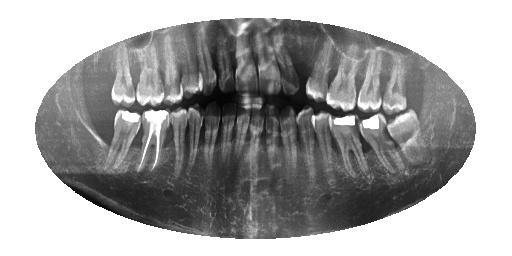i10healthy: (215, 97, 238, 168)
i11healthy: (200, 98, 222, 169)
i12healthy: (183, 100, 205, 182)
i13healthy: (166, 105, 192, 184)
i14healthy: (136, 102, 173, 184)
i15healthy: (100, 108, 146, 181)
i16loss: (75, 102, 121, 159)
i1healthy: (381, 105, 432, 170)
i2healthy: (353, 108, 411, 178)
i3healthy: (327, 108, 370, 184)
i4healthy: (306, 106, 337, 186)
i5healthy: (292, 101, 325, 184)
i6healthy: (274, 101, 300, 182)
i7decay: (261, 99, 282, 180)
i8healthy: (245, 102, 264, 206)
i9healthy: (229, 96, 252, 170)
u10decay: (210, 26, 237, 100)
u11healthy: (191, 25, 220, 96)
u12healthy: (175, 25, 207, 104)
u13healthy: (157, 31, 187, 109)
u14healthy: (131, 37, 168, 112)
u15healthy: (111, 43, 137, 109)
u2healthy: (381, 45, 412, 119)
u3healthy: (354, 39, 386, 120)
u4healthy: (324, 36, 362, 112)
u5healthy: (300, 34, 336, 105)
u6loss: (285, 35, 314, 101)
u7healthy: (269, 29, 301, 101)
u8healthy: (250, 24, 283, 99)
u9healthy: (230, 25, 261, 99)
